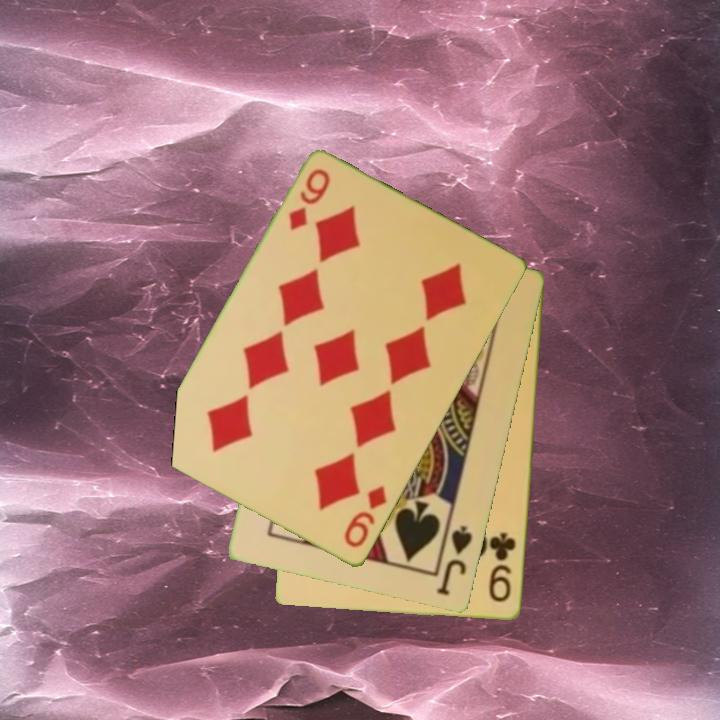9c: (486, 529, 520, 606)
9d: (340, 482, 390, 552), (284, 165, 334, 234)
Js: (433, 522, 476, 599)
